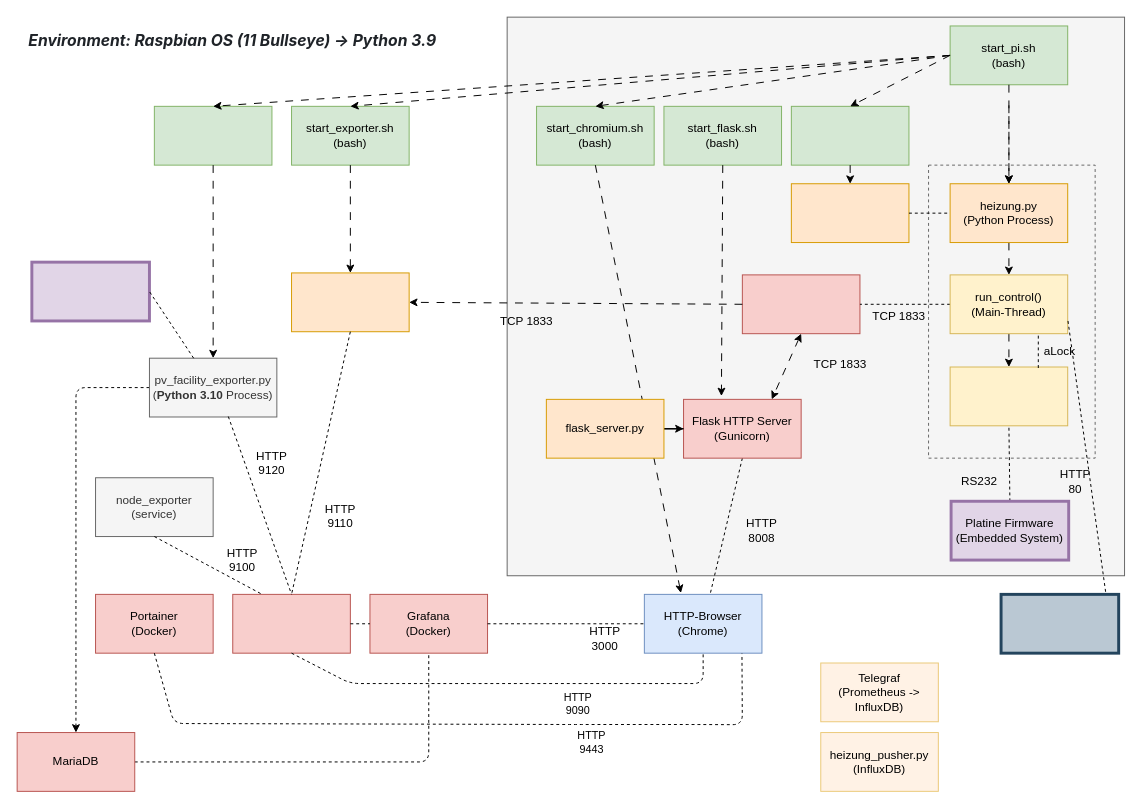
Image size: 1142x809. Some labels were removed from this diagram. The centre of each missing label's shape, as x and y in pixels:
"ESP32 Http Server (Embedded System)" belongs at (x=1059, y=623).
"heizung_exporter.py (Python Process)" belongs at (x=350, y=302).
"Huawei SUN2000" belongs at (x=90, y=291).
"MQTT Broker" belongs at (x=800, y=304).
"Prometheus oder InfluxDB (Docker)" belongs at (x=291, y=623).
"run_communication() (Thread)" belongs at (x=1008, y=396).
"start_pv_exporter.sh (bash)" belongs at (x=212, y=135).
"start_watchdog.sh (bash)" belongs at (x=849, y=135).
"stopcontrol_and_ powershutdown.py (Python Process)" belongs at (x=849, y=213).
